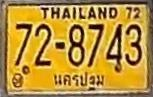2: (34, 23, 51, 66)
3: (124, 23, 141, 65)
4: (105, 23, 122, 66)
7: (15, 23, 32, 66), (87, 23, 103, 66)
8: (67, 23, 84, 66)
NPT: (50, 68, 110, 92)
